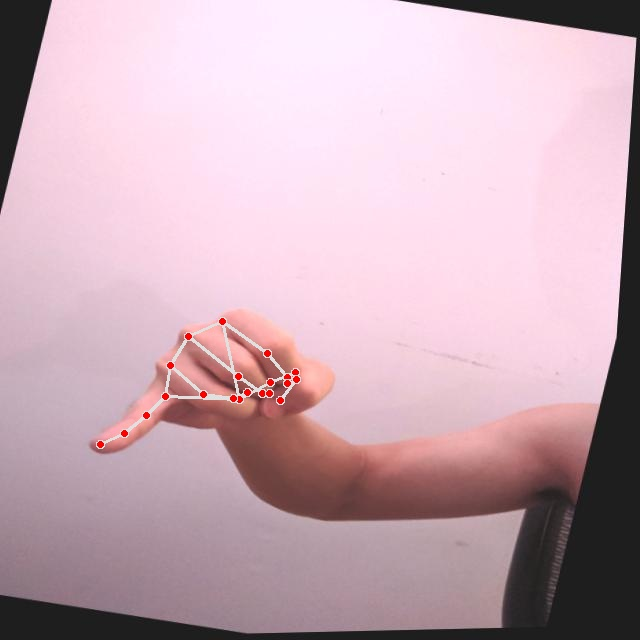J: (82, 278, 362, 497)
